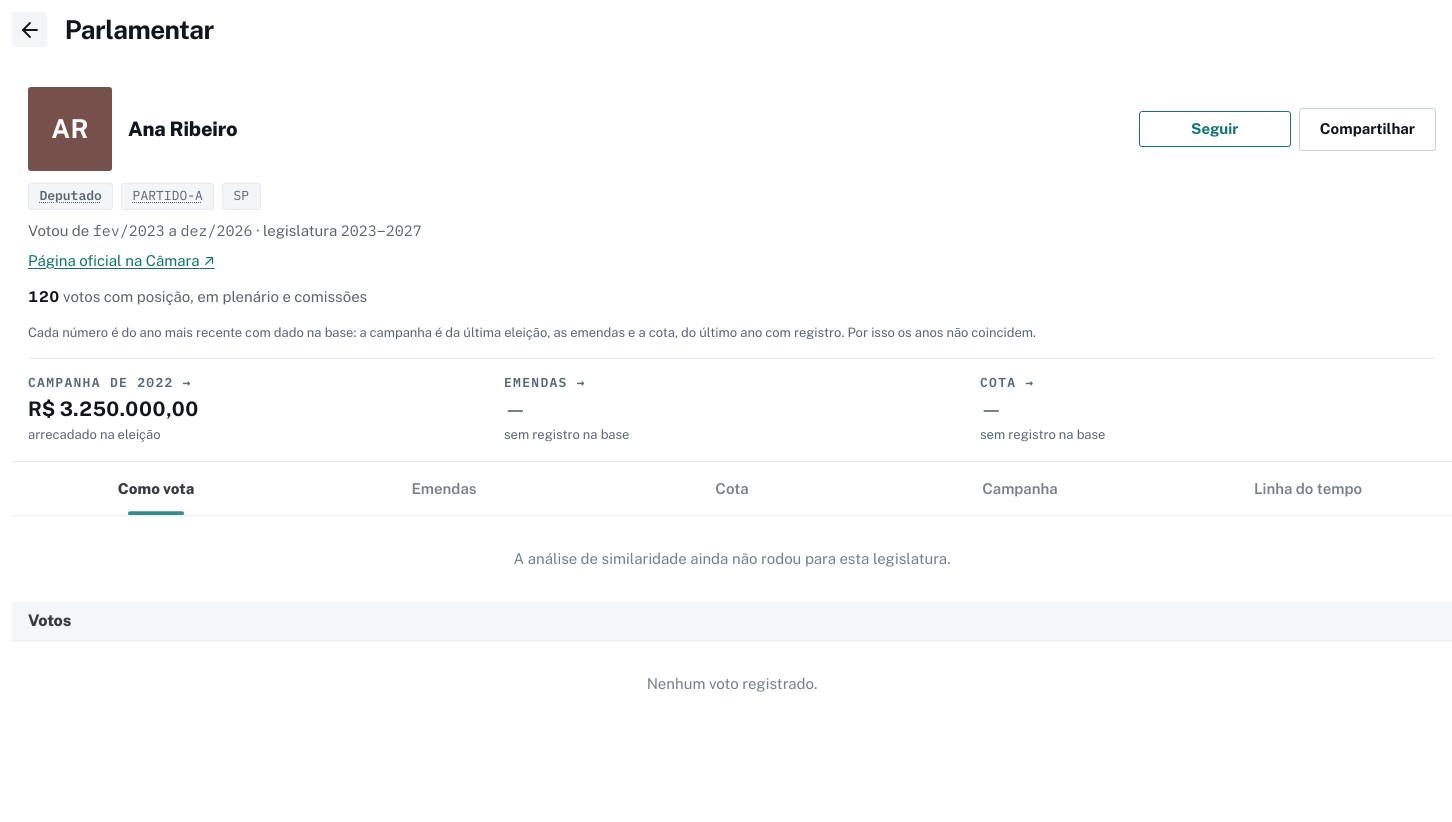
Scenario: contas — emendas › DECISÃO: estado vazio é honesto, não "R$ 0,00"
The width and height of the screenshot is (1452, 822).
Step 1. Click the link "Emendas" → (444, 489), box [412, 480, 476, 497]
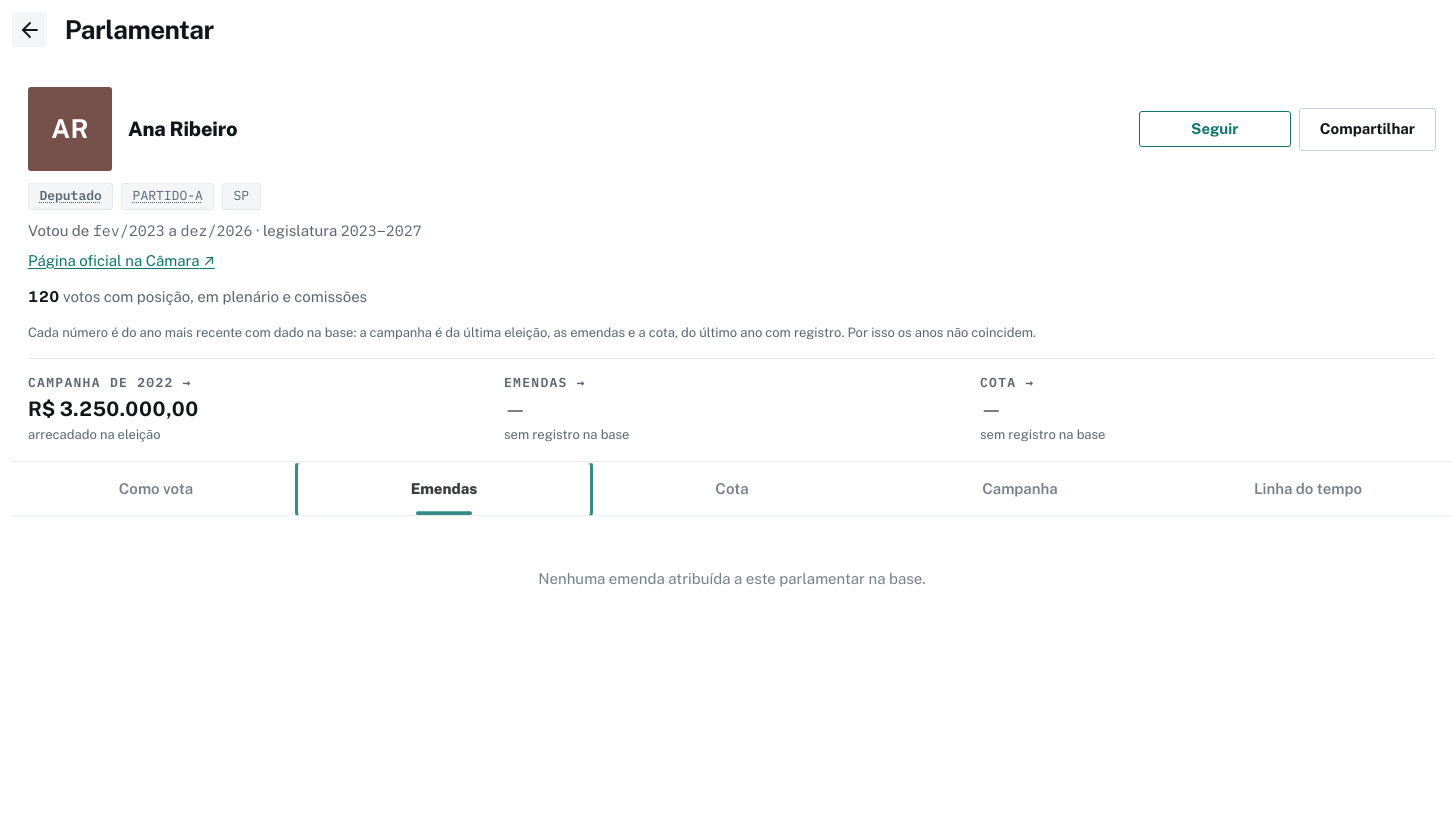
Expected: the text "Nenhuma emenda atribuída a este parlamentar na base." is shown, [538, 570, 926, 587]
